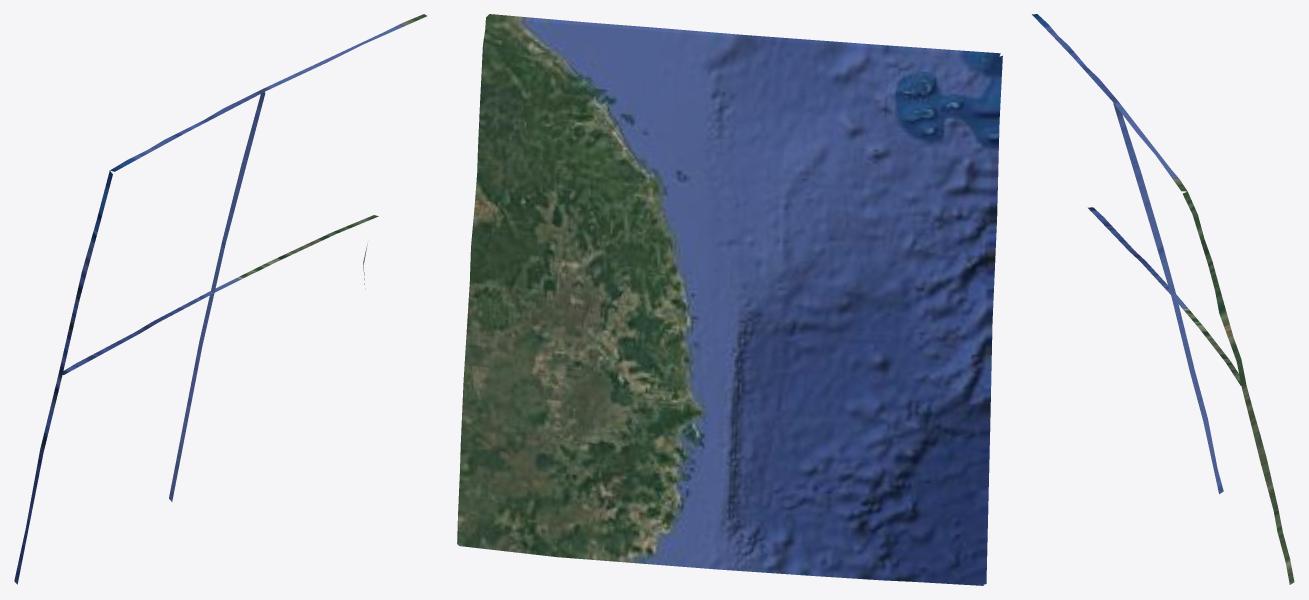
The picture shows the model from 3 angles, left to right: view 1: azimuth 30°, elevation 25°; view 2: azimuth 150°, elevation 25°; view 3: azimuth 270°, elevation 25°; orthographic projection. The views are drawn at different scales.
Size of the model in its own units: 627728 by 612713 by 355343.
1 material, 1 textured.
